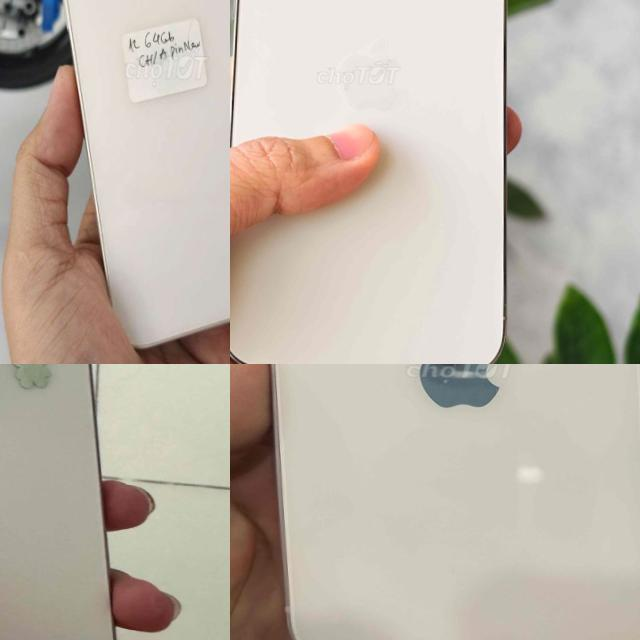gen_12_13: (244, 364, 640, 640), (40, 0, 230, 357)
gen_14: (230, 0, 529, 364)
gen_16: (0, 364, 114, 640)
